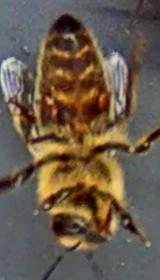varroa_mite: (86, 90, 116, 116)
